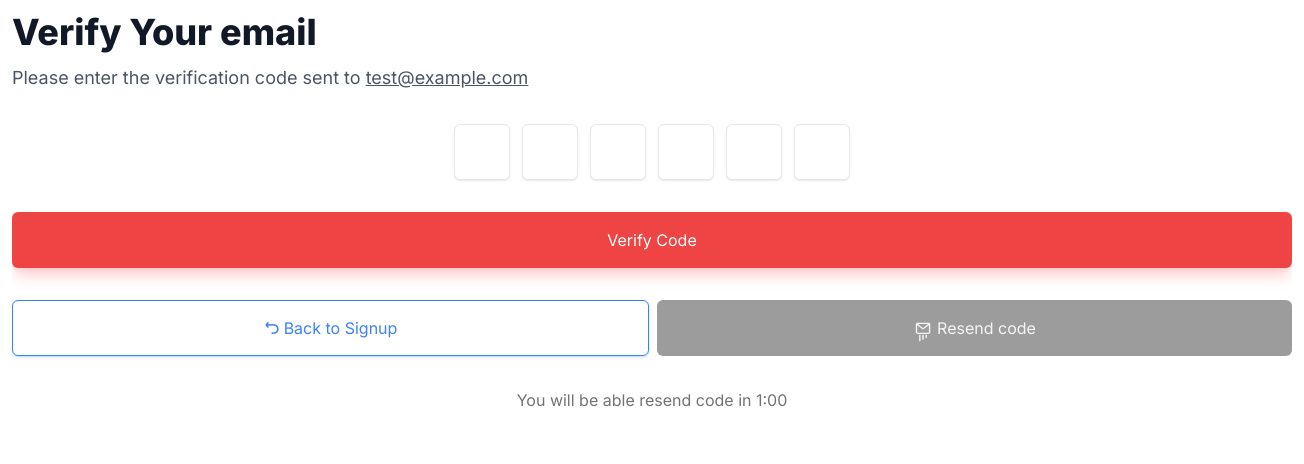
Scenario: <VerifyCodeForm /> › 10. Displays error message when server invalidates the code
Type "1" into the 1st field at (482, 152), box [454,124,510,180]
Type "2" into the 2nd field at (550, 152), box [522,124,578,180]
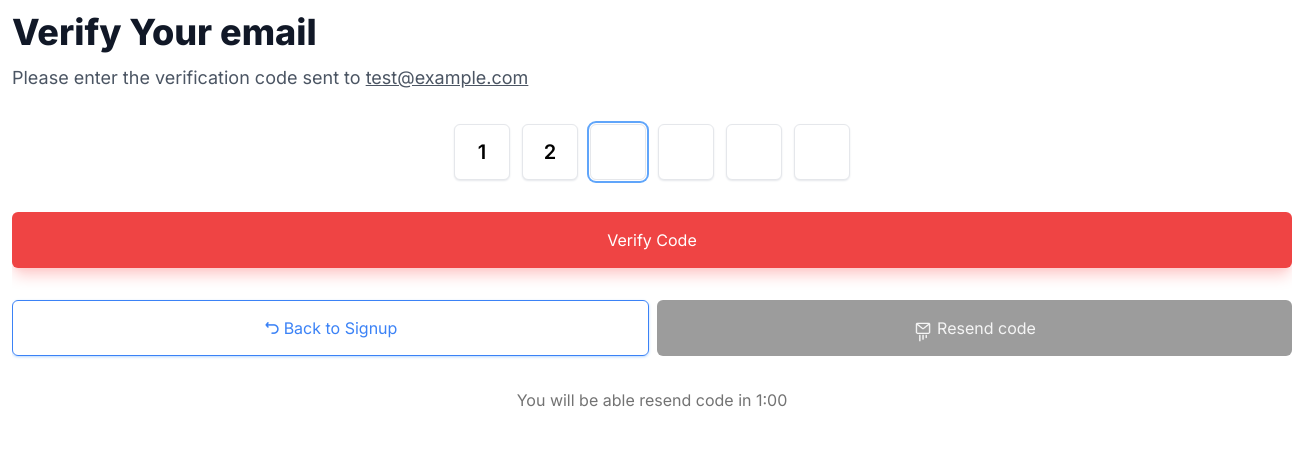
Type "3" into the 3rd field at (618, 152), box [590,124,646,180]
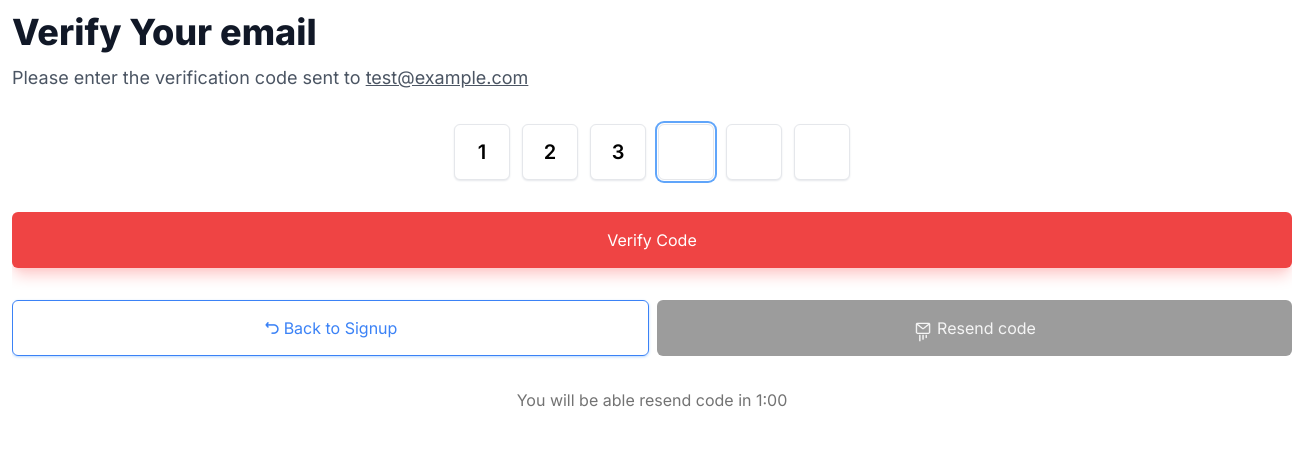
Type "4" into the 4th field at (686, 152), box [658,124,714,180]
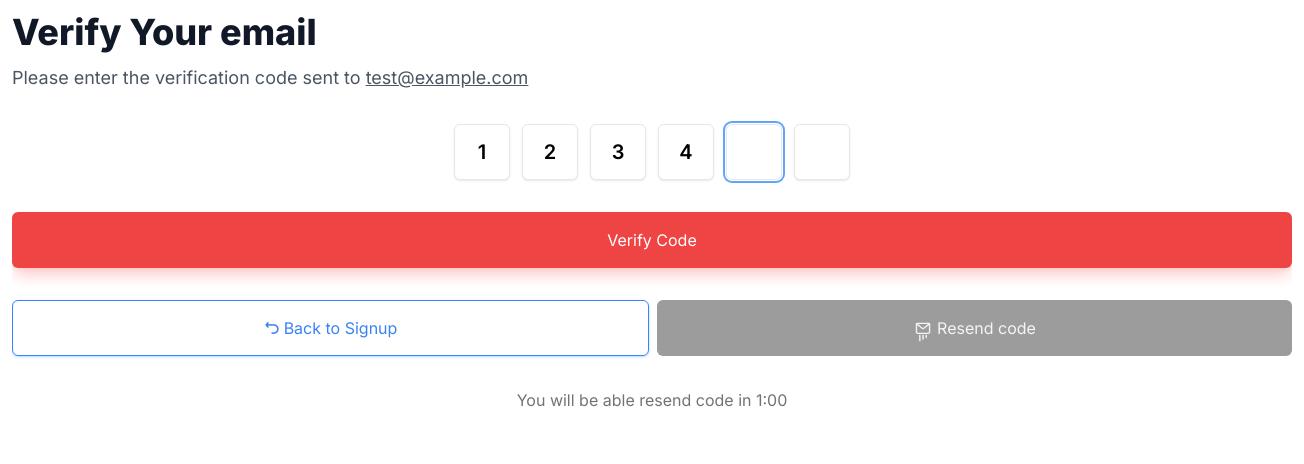
Type "5" into the 5th field at (754, 152), box [726,124,782,180]
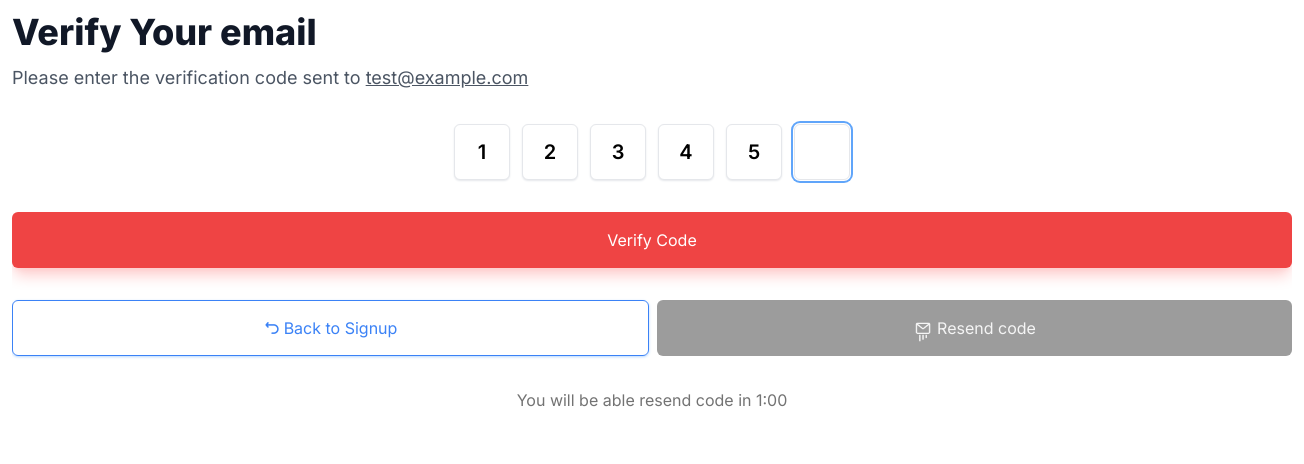
Type "6" into the 6th field at (822, 152), box [794,124,850,180]
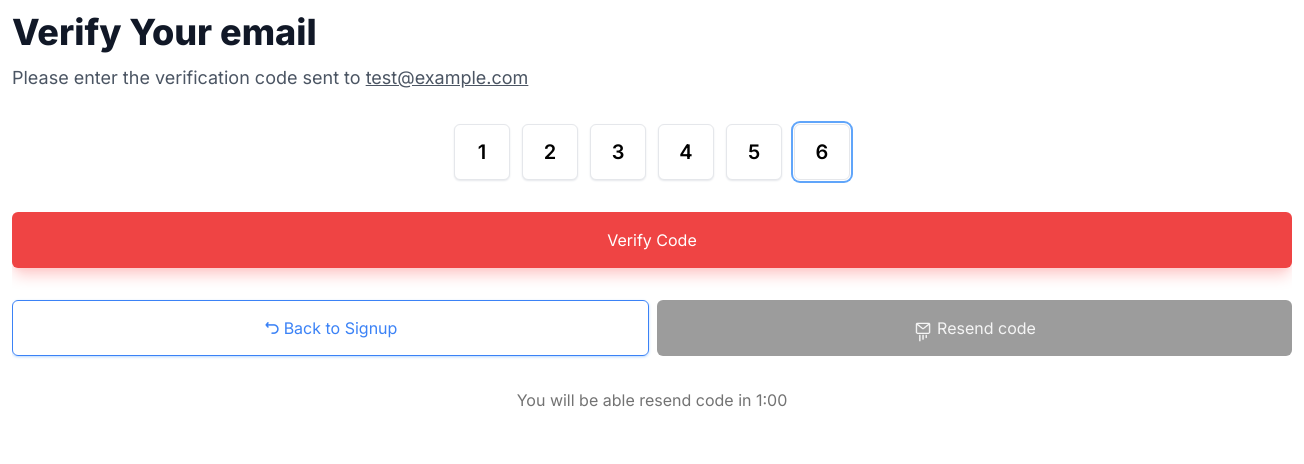
Click the button with test id "SubmittingButton" at (652, 240), box [12,212,1292,268]
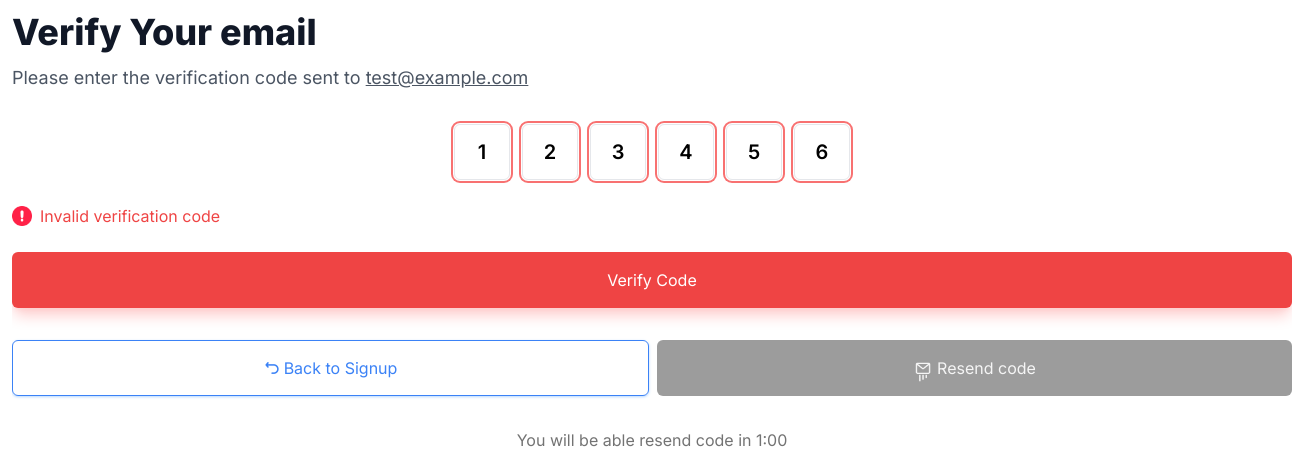
expect the text with test id "ErrorMessageComponent.Message" reads "Invalid verification code": met, box [40,206,220,226]
